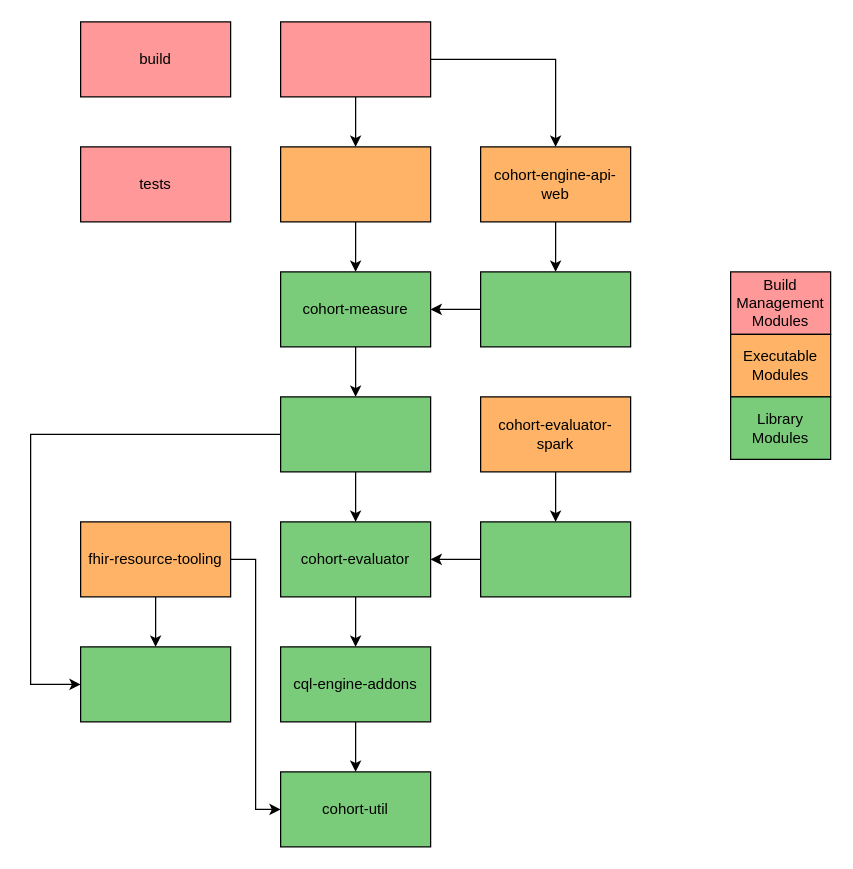
The diagram is 853 pixels wide and 869 high, and some of its shapes have lost their labels. The shapes that lost their labels are listed below. From the top down, each one's centre as x and y in pixels, then its label:
At pixel 355 59: "cohort-engine-distribution".
At pixel 355 184: "cohort-cli".
At pixel 555 309: "cohort-engine-api".
At pixel 355 434: "cohort-evaluator-hapi-fhir".
At pixel 555 559: "cohort-model-datarow".
At pixel 155 684: "fhir-client-config".
